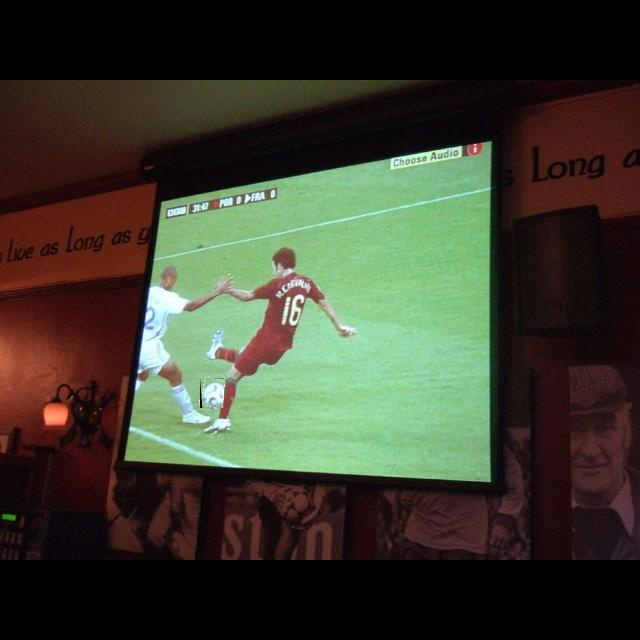Football: (200, 378, 224, 408)
